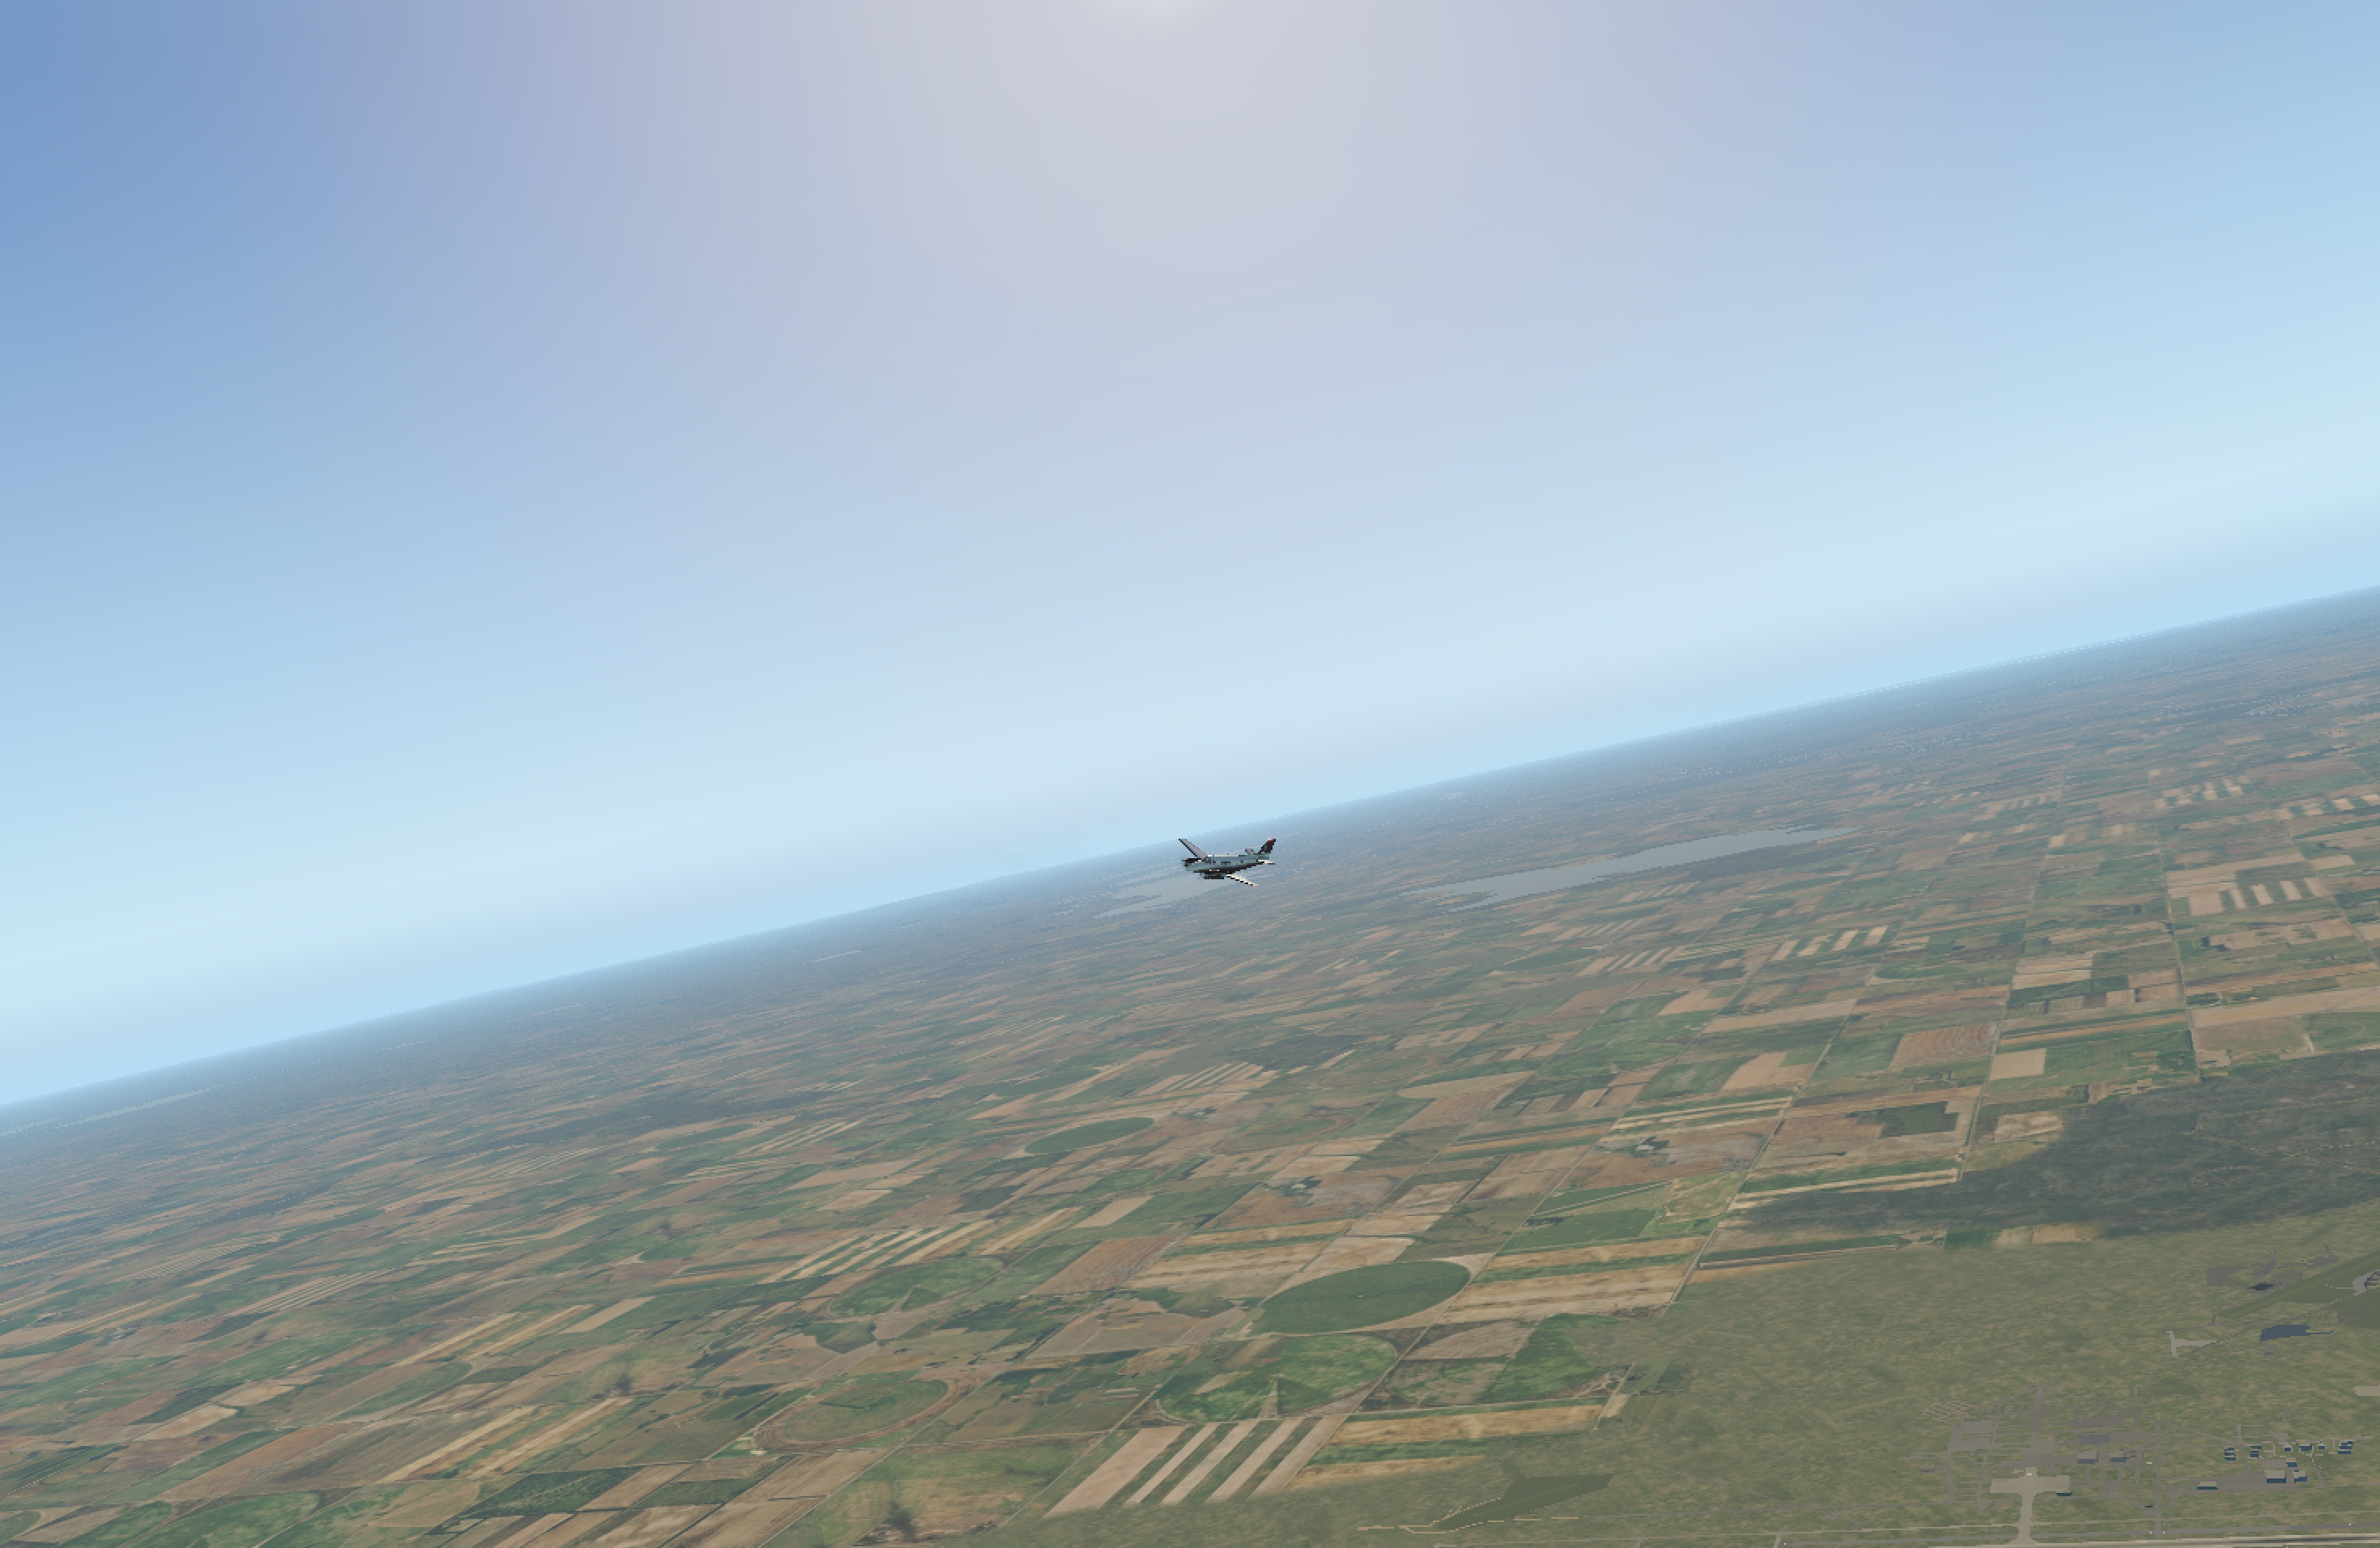aircraft: (1138, 843, 1287, 899)
